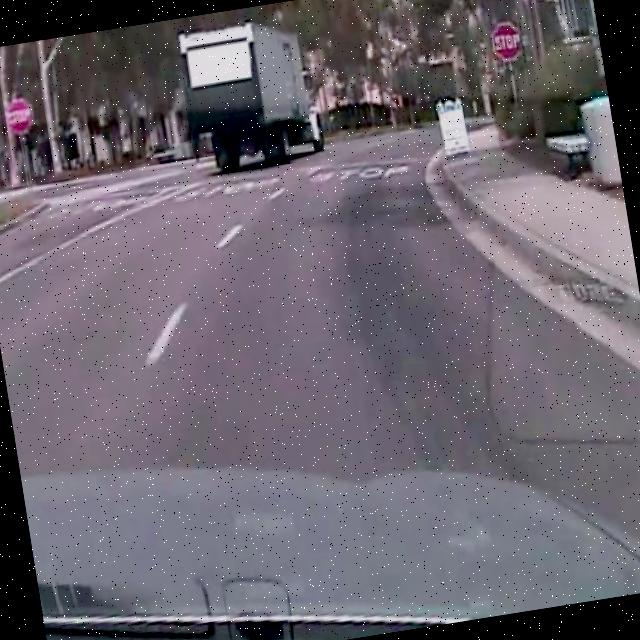Stop: (488, 18, 526, 66)
